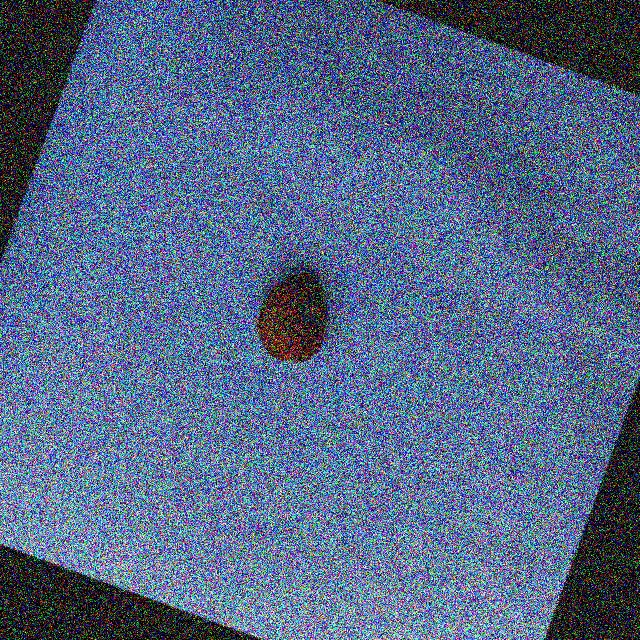grade3: (244, 259, 348, 377)
